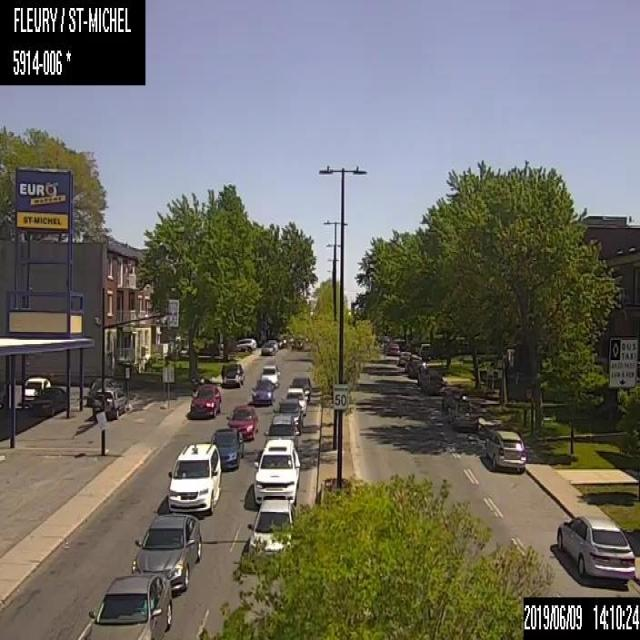vehicle: (128, 508, 205, 596), (556, 509, 636, 587), (86, 570, 172, 639), (166, 442, 222, 515), (248, 492, 296, 564), (254, 435, 302, 505), (484, 428, 527, 472), (208, 426, 245, 472), (29, 386, 70, 418), (187, 380, 221, 417), (265, 414, 299, 450), (91, 386, 128, 418), (226, 405, 256, 440), (447, 398, 479, 430), (20, 375, 51, 405), (84, 376, 116, 404), (272, 398, 306, 424), (417, 367, 444, 394), (282, 386, 309, 411), (250, 378, 274, 404), (222, 361, 243, 387), (289, 374, 311, 396), (260, 363, 279, 388), (407, 360, 426, 379), (233, 336, 257, 351), (386, 342, 400, 357), (396, 351, 411, 365), (261, 342, 274, 353), (267, 338, 277, 351)
